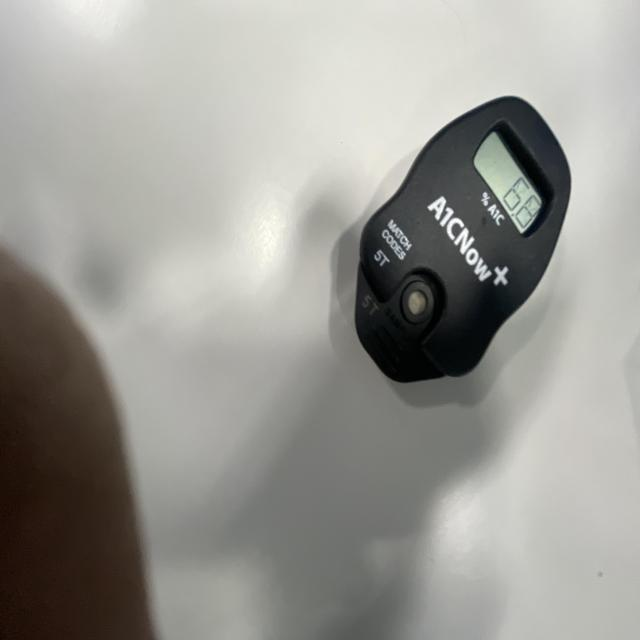hba1c: (351, 96, 572, 389)
